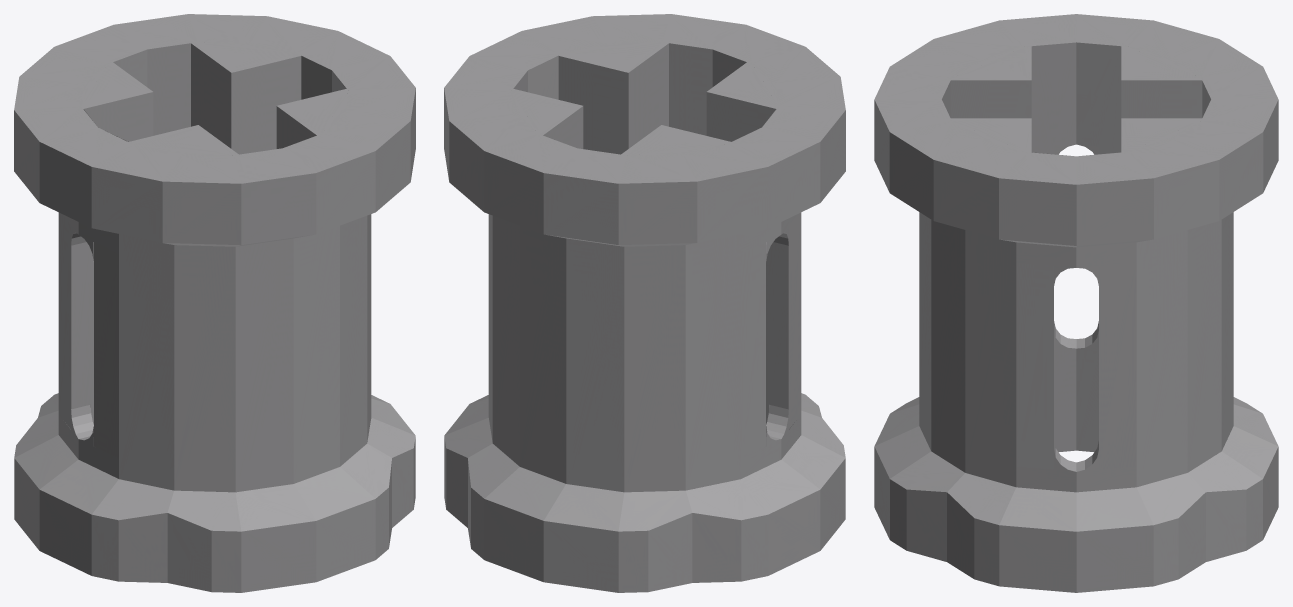
The model's file is full_bush.dae.
3 renders of one model, left to right at view 1: azimuth 30°, elevation 25°; view 2: azimuth 150°, elevation 25°; view 3: azimuth 270°, elevation 25°, orthographic.
Parts seen in each view (by area): view 1: node; view 2: node; view 3: node.
Part boxes in pixels (left/top/right/bottom): node: left=14, top=14, right=415, bottom=592; node: left=444, top=14, right=845, bottom=592; node: left=874, top=14, right=1278, bottom=592.
Bounding box in the file's own units: 17.5 × 19.5 × 17.5.
Materials: 1 (1 with a texture image).
